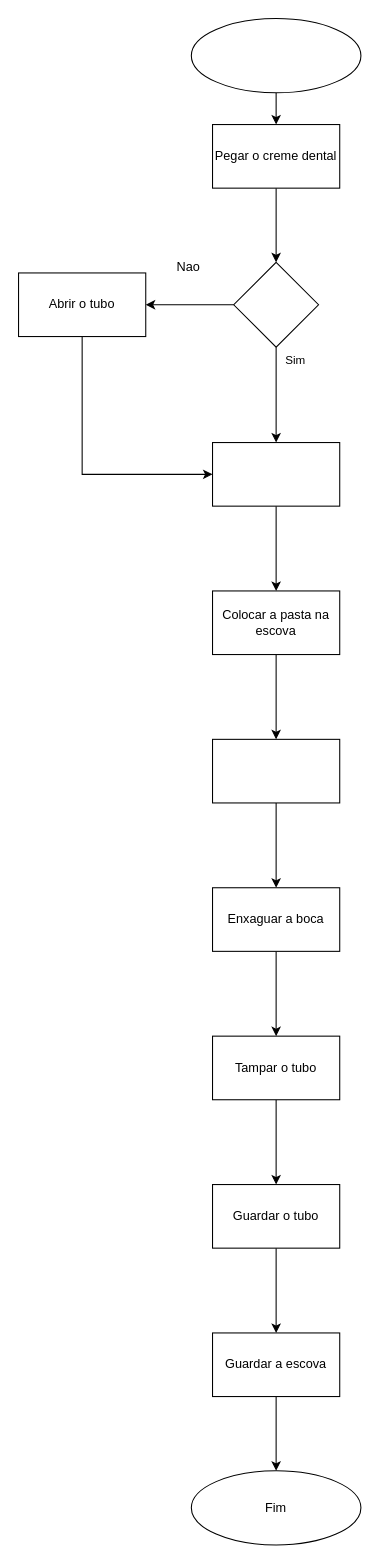
Some shapes in this 379 by 1563 pixel diagram are drawn without their labels. The centre of each missing label's shape, as x and y in pixels:
Escovar os dentes: point (275, 770)
Início: point (275, 55)
Pegar a escova: point (275, 473)
Tubo está aberto?: point (276, 304)
